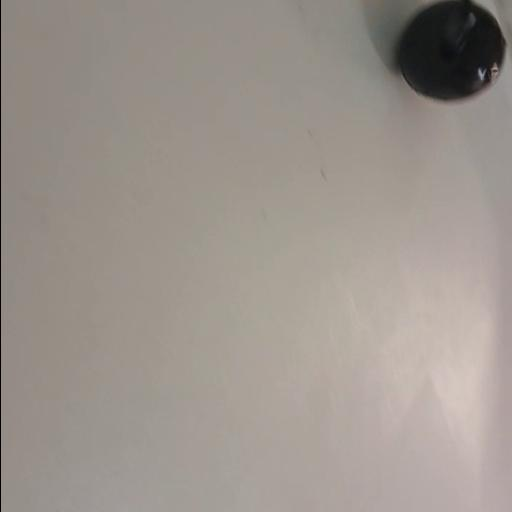dead: (396, 0, 506, 103)
